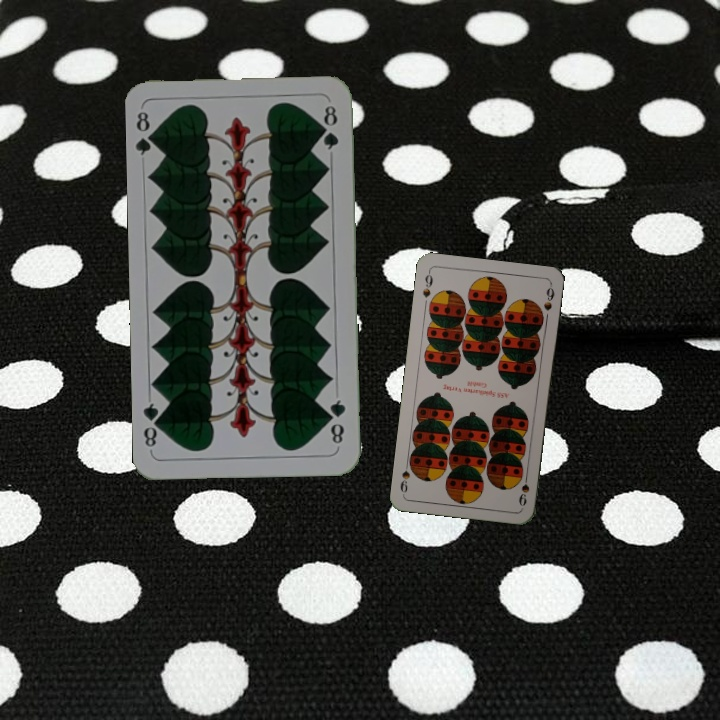G8: (132, 108, 160, 158), (324, 395, 348, 447)
S9: (515, 468, 532, 509), (418, 267, 435, 300)
